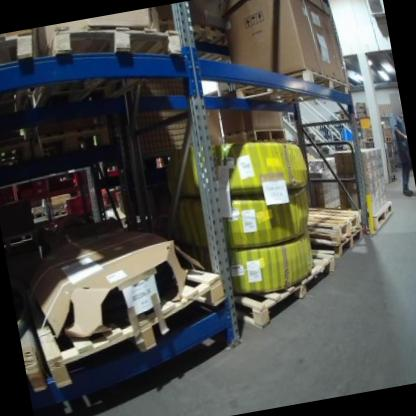pallet: (22, 251, 238, 392), (19, 5, 189, 110), (227, 241, 345, 334), (232, 61, 351, 117), (30, 122, 115, 162), (301, 196, 365, 245), (186, 18, 232, 65), (308, 227, 366, 264), (0, 27, 42, 69), (369, 199, 398, 232), (384, 135, 394, 144)
small_load_carrier: (13, 186, 50, 204), (12, 177, 49, 194), (65, 193, 90, 212), (104, 189, 122, 207), (72, 169, 89, 188), (106, 166, 122, 183)
stillage: (109, 60, 211, 167)
